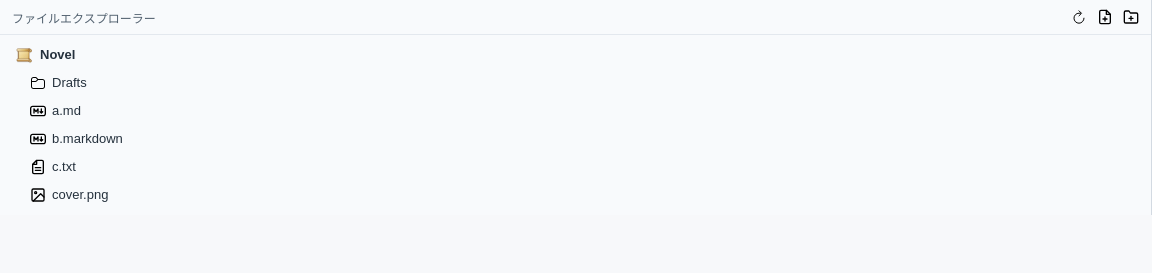
Test: File Explorer 日本語表現チェック context menu (#625 P2a) › does not show the item for cover.png (folder / image; unsupported files are not listed at all)
Right-click the list item "cover.png" at (80, 194), box top-left (6, 181), bottom-right (1145, 209)
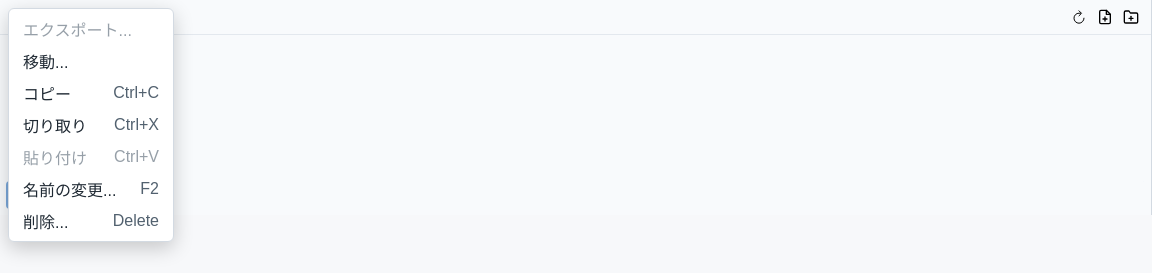
Result: the menu item "エクスポート..." is shown at top-left (13, 13), bottom-right (169, 45)
